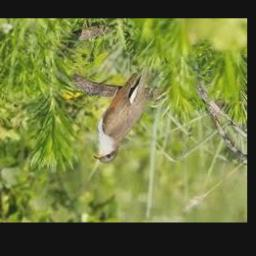Cuckoo: (93, 65, 150, 163)
